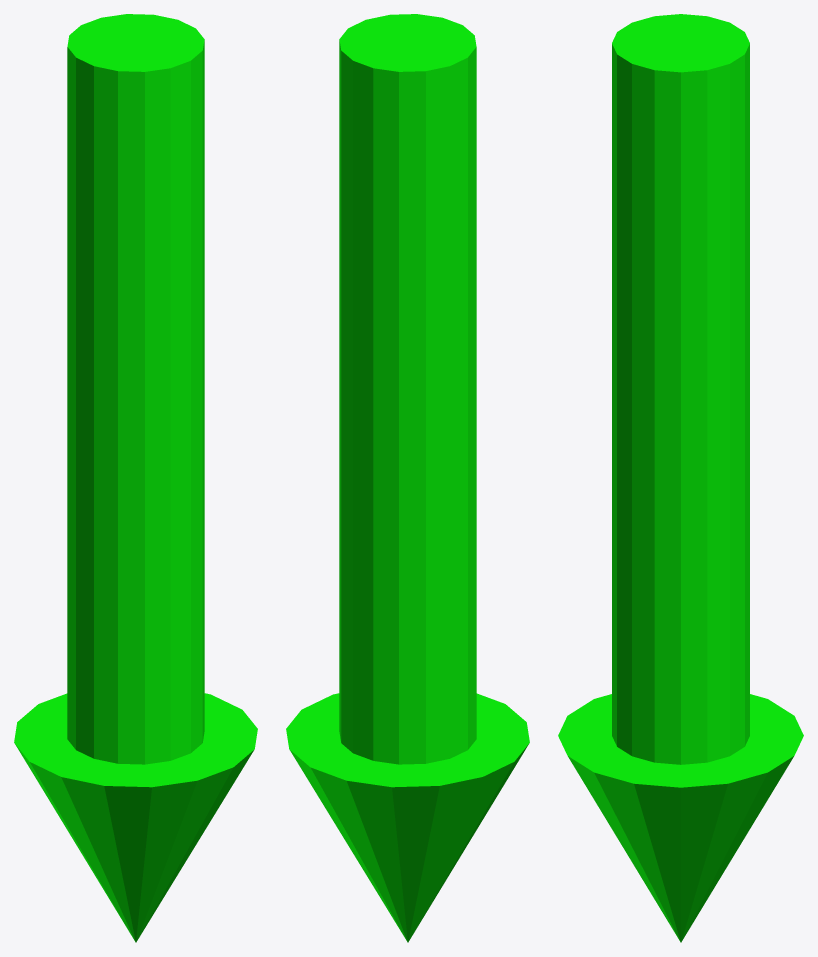
The model's file is gizmo_loc_y.obj.
3 renders of one model, left to right at view 1: azimuth 30°, elevation 25°; view 2: azimuth 150°, elevation 25°; view 3: azimuth 270°, elevation 25°, orthographic.
Visible parts, largest first — view 1: Gizmo_Location.001; view 2: Gizmo_Location.001; view 3: Gizmo_Location.001.
Part boxes in pixels (left/top/right/bottom): Gizmo_Location.001: left=14, top=14, right=257, bottom=942; Gizmo_Location.001: left=286, top=14, right=529, bottom=942; Gizmo_Location.001: left=558, top=14, right=803, bottom=942.
Bounding box in the file's own units: 0.3227 × 1.3 × 0.3227.
